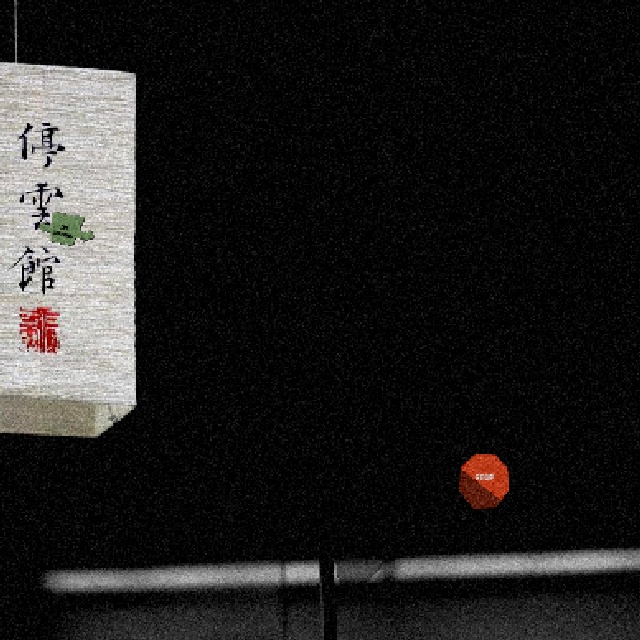GO_AROUND: (36, 210, 93, 245)
STOP: (456, 451, 509, 508)
